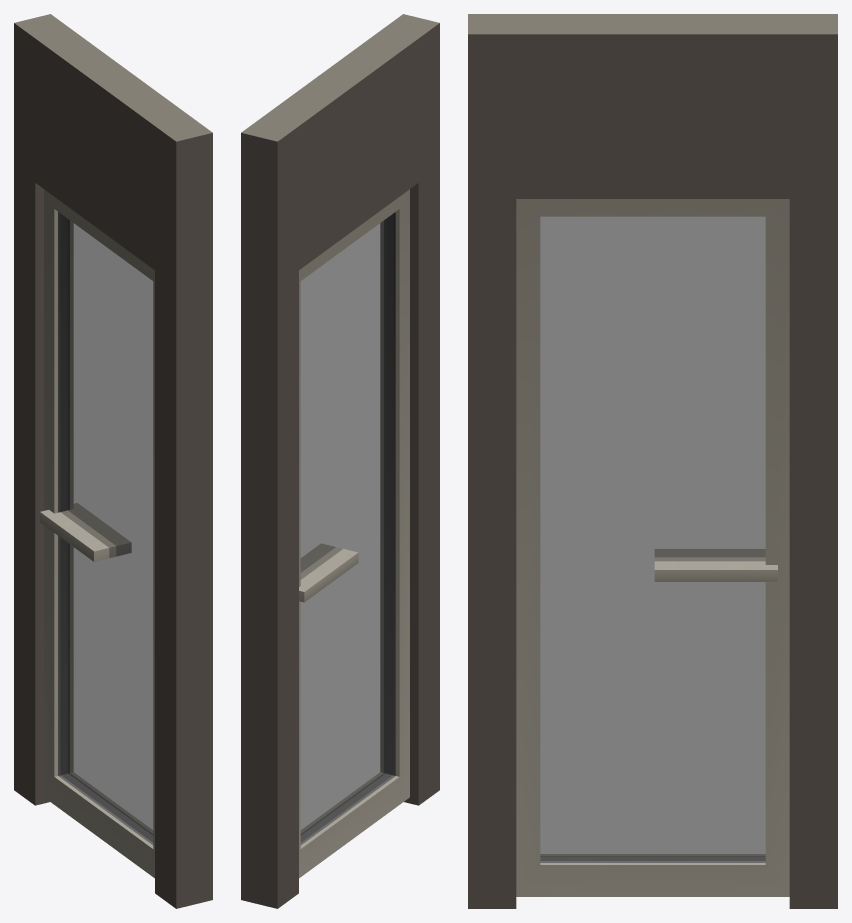
File: TSP_Interior_Wall_Short_04B.fbx
The picture shows the model from 3 angles, left to right: view 1: azimuth 30°, elevation 25°; view 2: azimuth 150°, elevation 25°; view 3: azimuth 270°, elevation 25°; orthographic projection. The views are drawn at different scales.
Visible parts, largest first — view 1: TSP_Interior_Wall_Short_04B, TSP_Interior_Wall_Short_04B_Door; view 2: TSP_Interior_Wall_Short_04B, TSP_Interior_Wall_Short_04B_Door; view 3: TSP_Interior_Wall_Short_04B_Door, TSP_Interior_Wall_Short_04B.
Part boxes in pixels (x1,y1,x2,y2): TSP_Interior_Wall_Short_04B: [14, 14, 212, 908]; TSP_Interior_Wall_Short_04B_Door: [40, 189, 154, 878]; TSP_Interior_Wall_Short_04B: [241, 14, 439, 908]; TSP_Interior_Wall_Short_04B_Door: [299, 189, 409, 878]; TSP_Interior_Wall_Short_04B_Door: [516, 199, 789, 896]; TSP_Interior_Wall_Short_04B: [468, 14, 837, 908].
Bounding box in the file's own units: 0.153 × 3 × 1.15.
